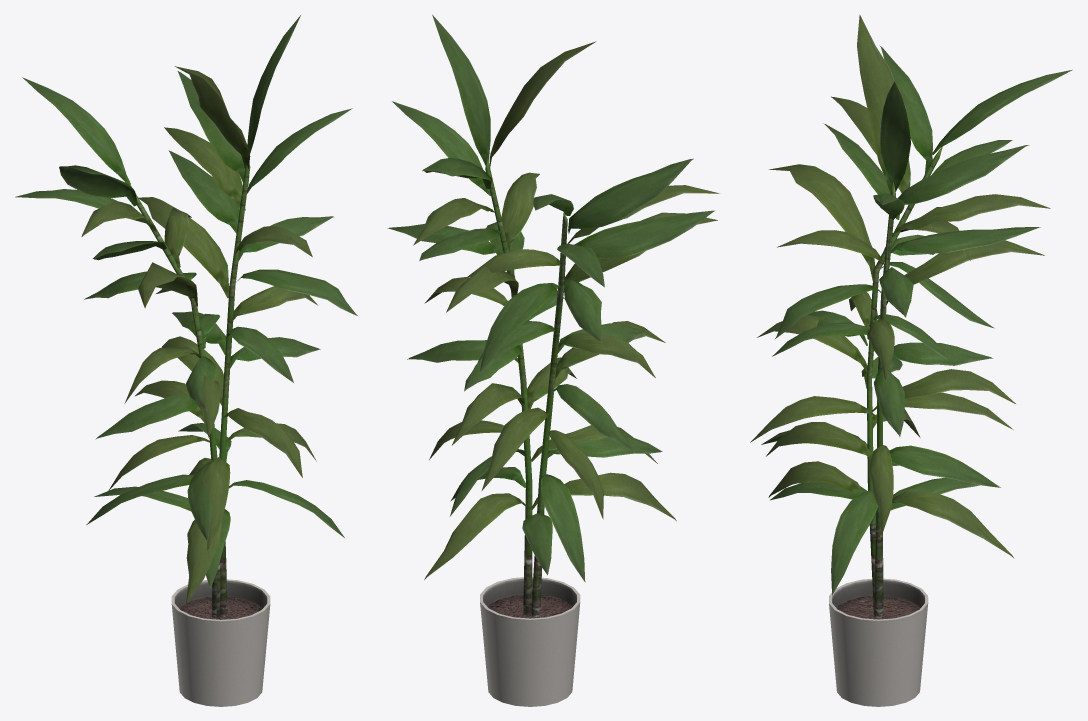
Rendered from Plant_InteriorHouse_Yucca.FBX.
The picture shows the model from 3 angles, left to right: view 1: azimuth 30°, elevation 25°; view 2: azimuth 150°, elevation 25°; view 3: azimuth 270°, elevation 25°; orthographic projection.
Parts seen in each view (by area): view 1: Plant_InteriorHouse_Yucca; view 2: Plant_InteriorHouse_Yucca; view 3: Plant_InteriorHouse_Yucca.
Boxes of the visible parts, left/top/right/bottom form: Plant_InteriorHouse_Yucca: left=15, top=15, right=357, bottom=706; Plant_InteriorHouse_Yucca: left=387, top=14, right=719, bottom=706; Plant_InteriorHouse_Yucca: left=750, top=14, right=1072, bottom=706.
Bounding box in the file's own units: 71.47 × 148 × 67.02.
